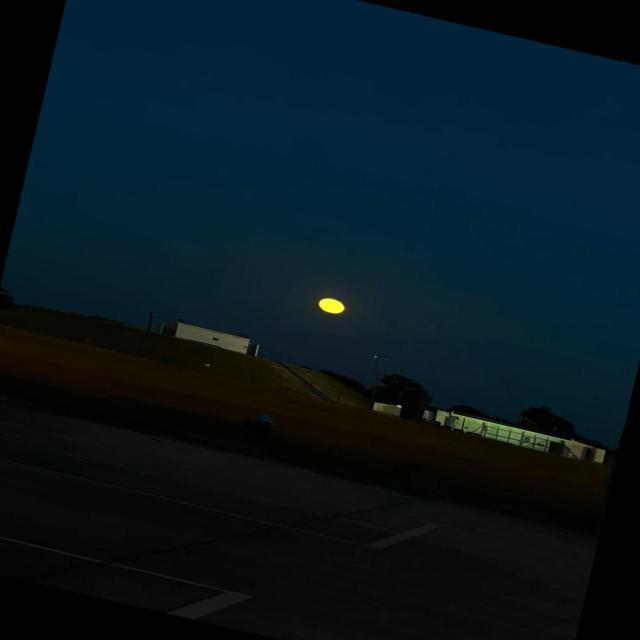on: (320, 276, 376, 352)
